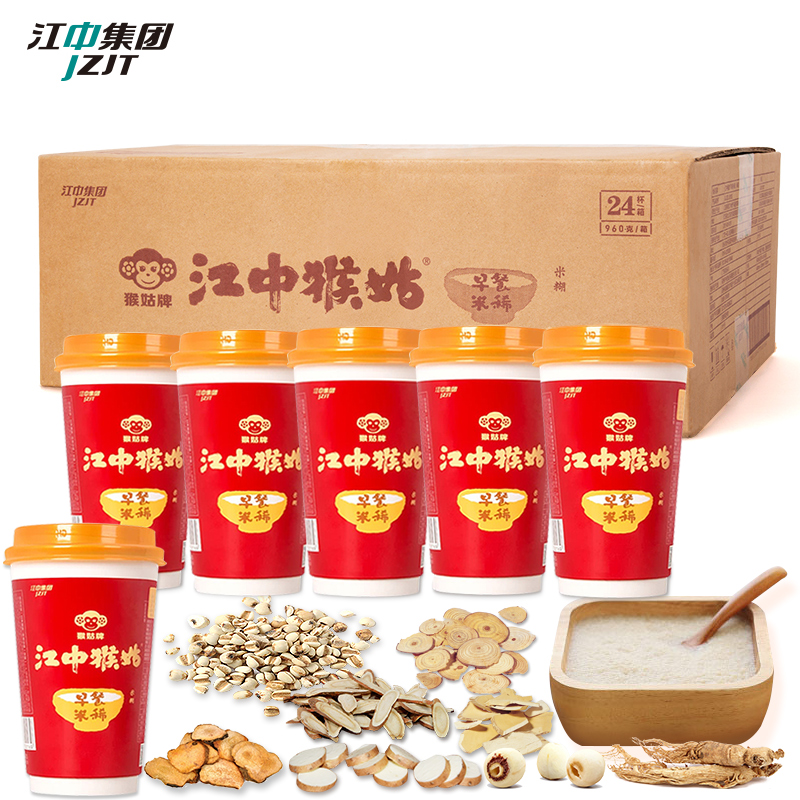cup: (5, 523, 161, 800), (540, 326, 686, 596), (294, 327, 428, 596), (416, 328, 552, 593), (176, 332, 300, 589), (62, 334, 186, 590)
